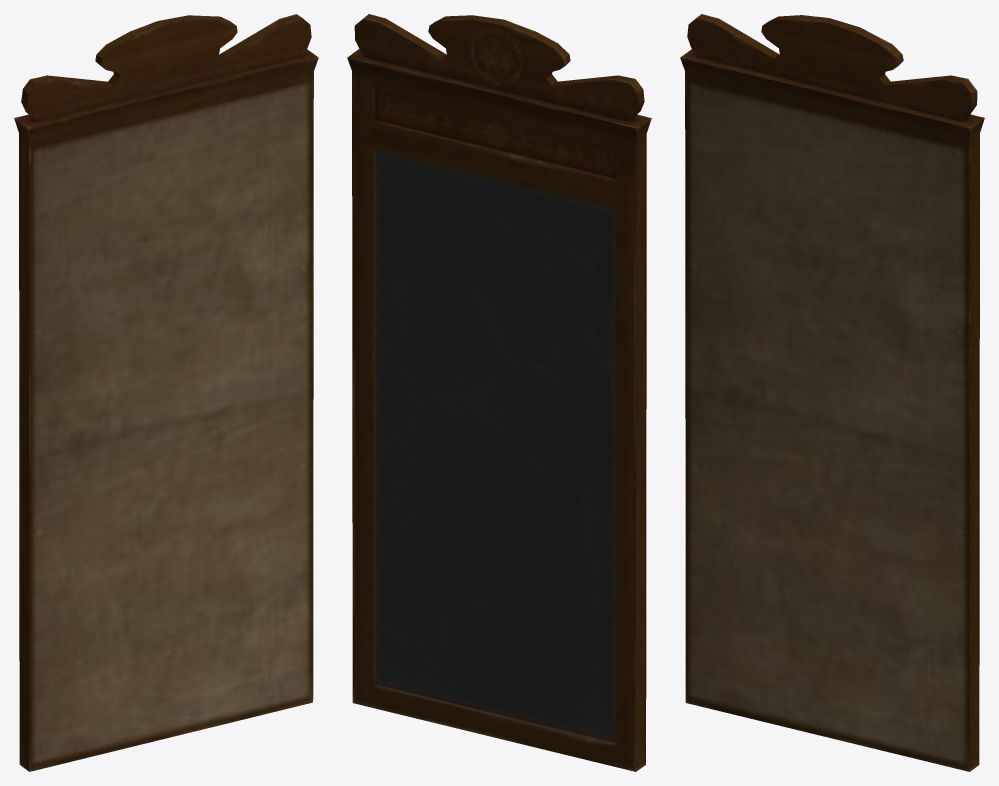
The model's file is mirror-cheval.lod1.glb.
3 renders of one model, left to right at view 1: azimuth 30°, elevation 25°; view 2: azimuth 150°, elevation 25°; view 3: azimuth 330°, elevation 25°, orthographic.
Parts seen in each view (by area): view 1: mirror-cheval; view 2: mirror-cheval; view 3: mirror-cheval.
Part boxes in pixels (x1=…): mirror-cheval: x1=14, y1=14, x2=318, y2=771; mirror-cheval: x1=347, y1=14, x2=651, y2=771; mirror-cheval: x1=680, y1=14, x2=984, y2=771.
Bounding box in the file's own units: 0.8058 × 1.89 × 0.0691.
Materials: 1 (1 with a texture image).
